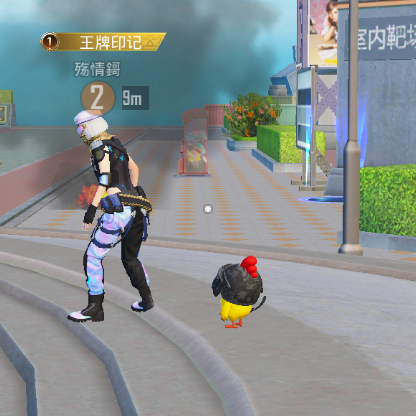ren: (61, 108, 155, 321), (323, 5, 338, 46)
tou: (74, 110, 111, 144), (329, 9, 337, 21)
